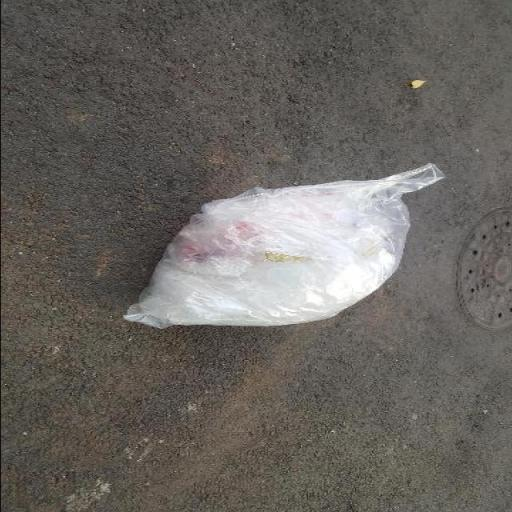plastic-bag: (119, 162, 447, 332)
